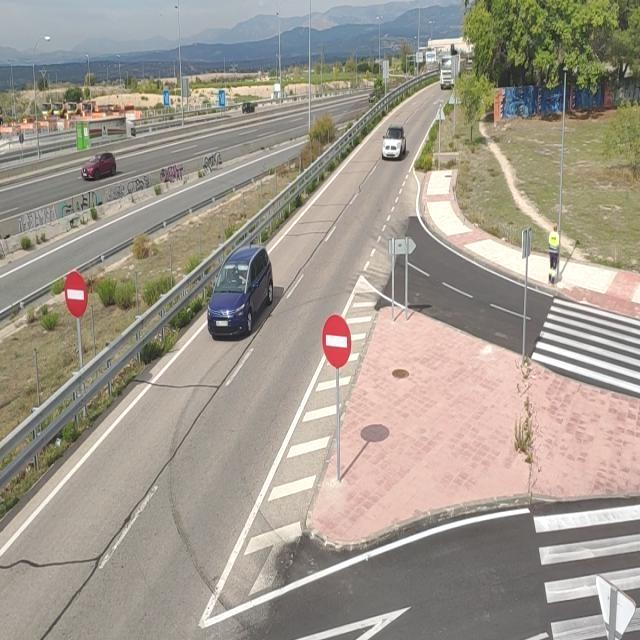Car: (206, 240, 278, 342), (79, 150, 118, 182), (381, 126, 406, 160)
